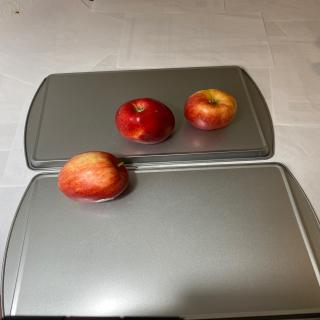Apple: (57, 151, 129, 203), (115, 98, 175, 144), (184, 89, 237, 130)
